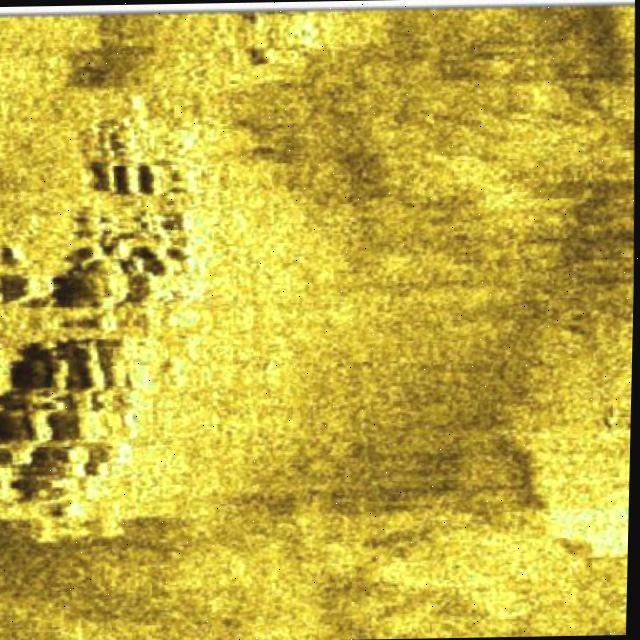bedrock group: (0, 150, 213, 505)
